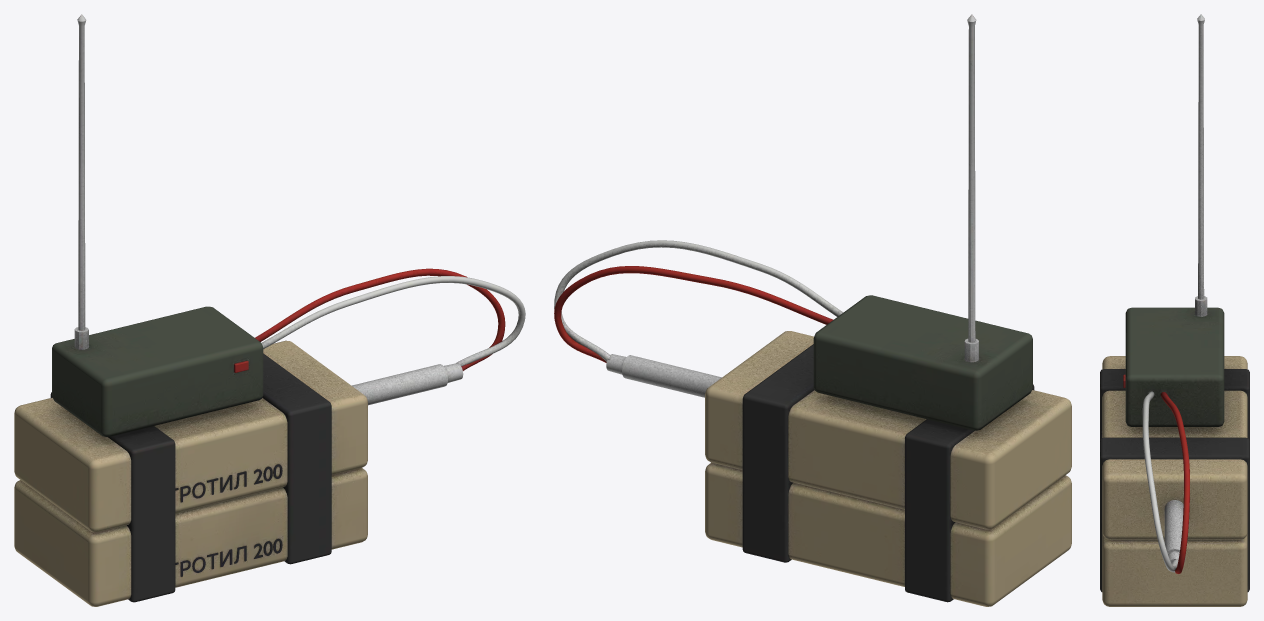
File: charge.glb
3 renders of one model, left to right at view 1: azimuth 30°, elevation 25°; view 2: azimuth 150°, elevation 25°; view 3: azimuth 270°, elevation 25°, orthographic. The views are drawn at different scales.
Visible parts, largest first — view 1: charge; view 2: charge; view 3: charge.
Part boxes in pixels (<box>): charge: <box>14,14,525,606</box>; charge: <box>554,14,1071,606</box>; charge: <box>1100,14,1249,606</box>.
Bounding box in the file's own units: 0.1673 × 0.1877 × 0.0516.
Materials: 1 (1 with a texture image).
